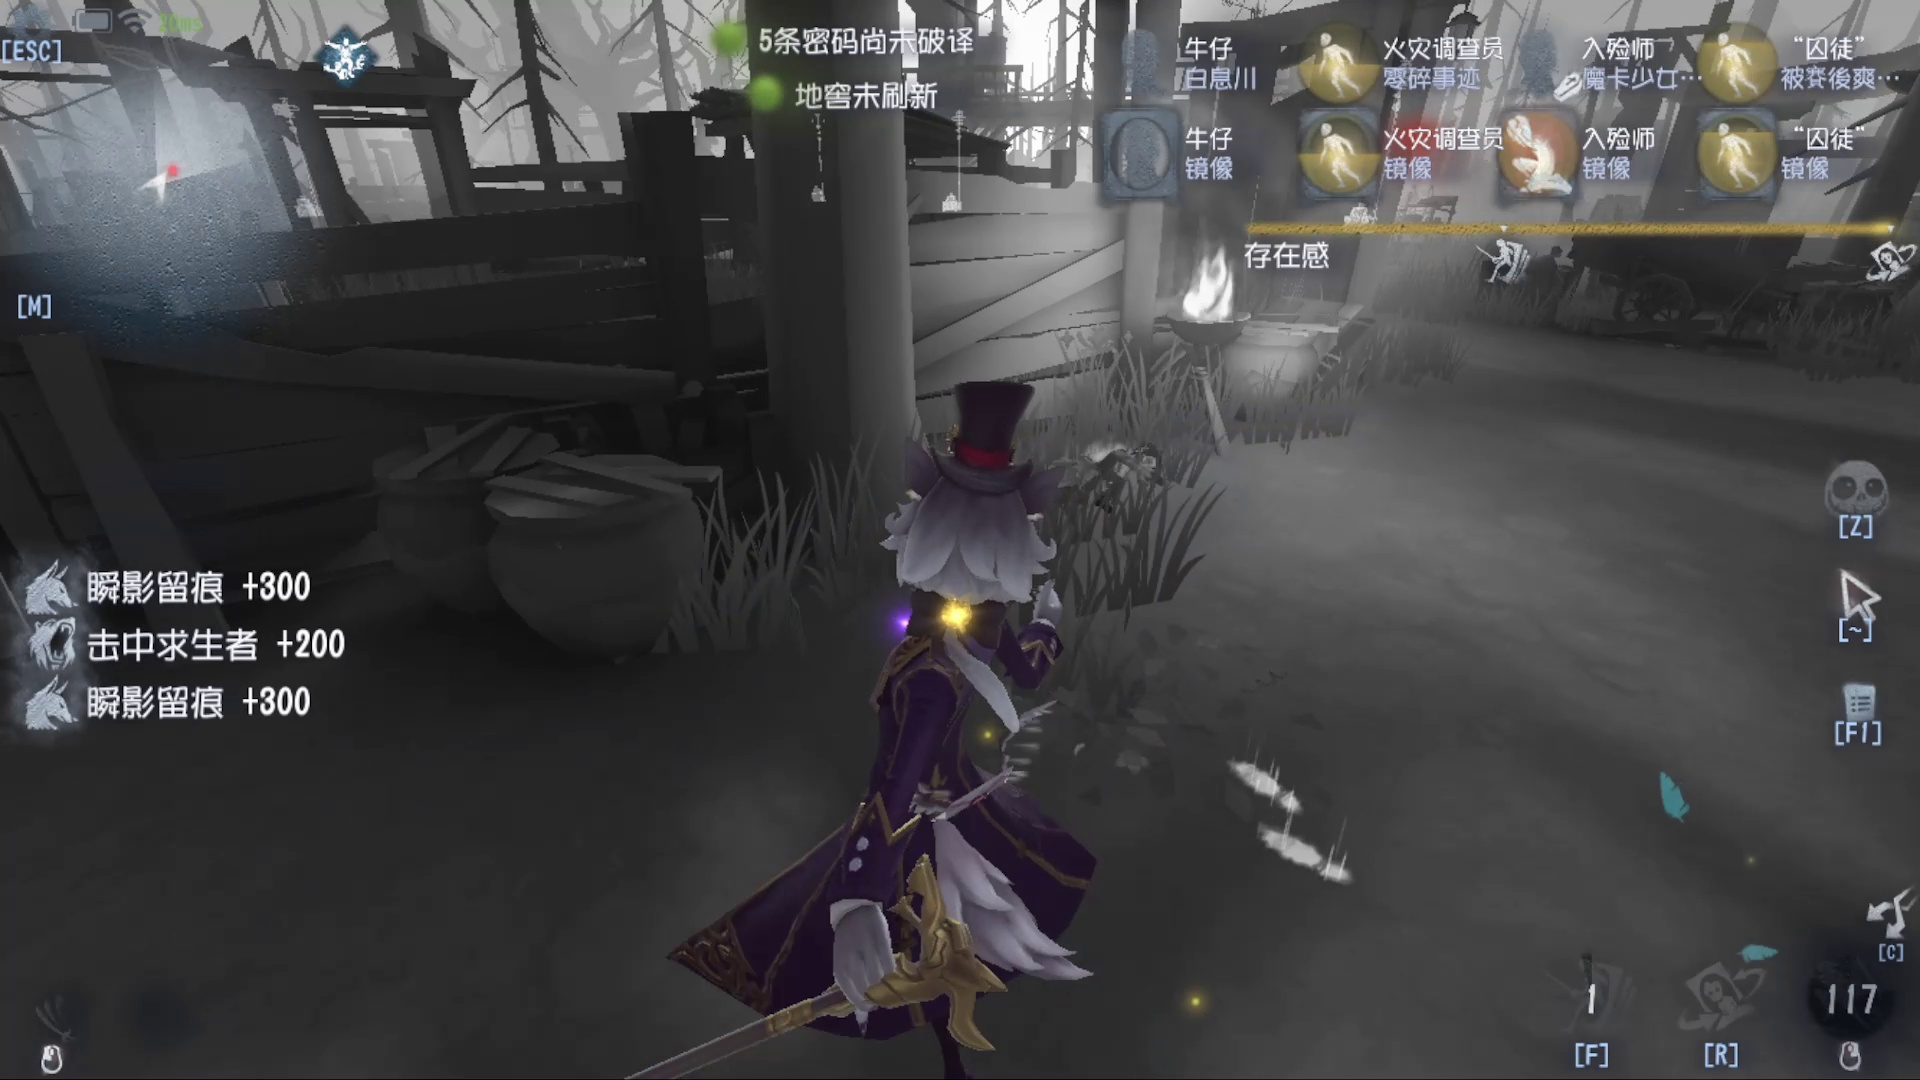密码机: (795, 119, 862, 235)
